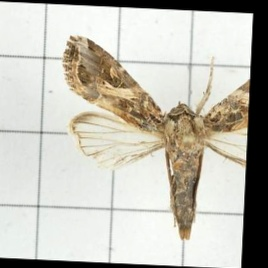Spodoptera litura: (57, 38, 247, 238)
